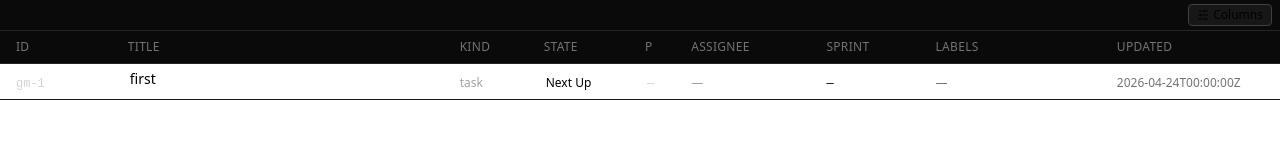
Test: WorkItemGrid inline edit (gm-5v8v.6.1) › clicking a title cell activates the editor
This screenshot has width=1280, height=160.
Click the button with test id "grid-cell-gm-1-title".
click(143, 79)  # box [128, 69, 158, 89]
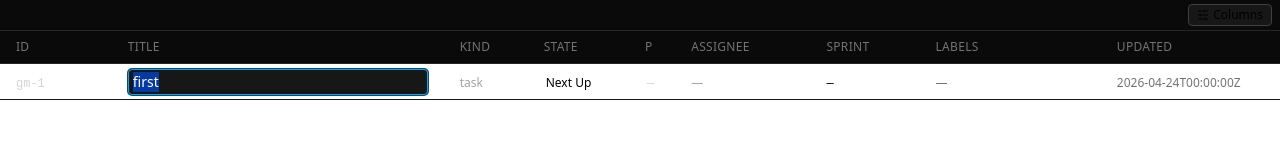
Check: the field with test id "grid-cell-editor-title" holds "first", box [128, 68, 428, 94]
